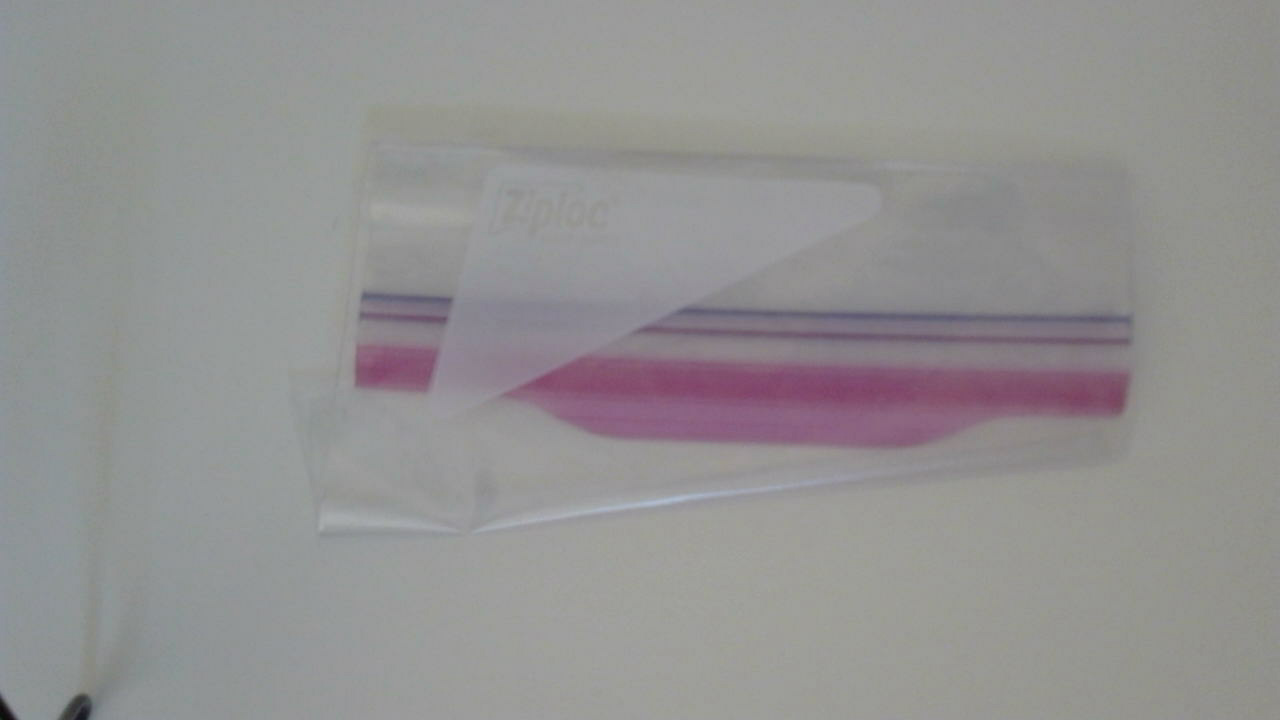Plastic Bag: (288, 113, 1155, 554)
